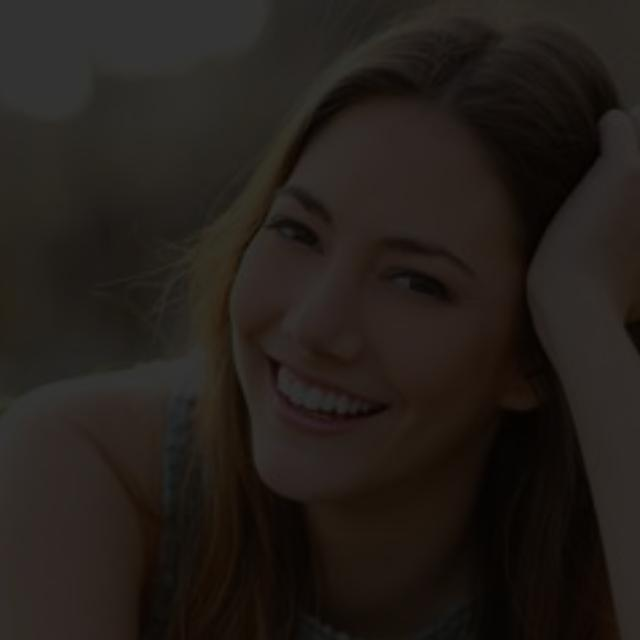Happy: (102, 33, 598, 513)
